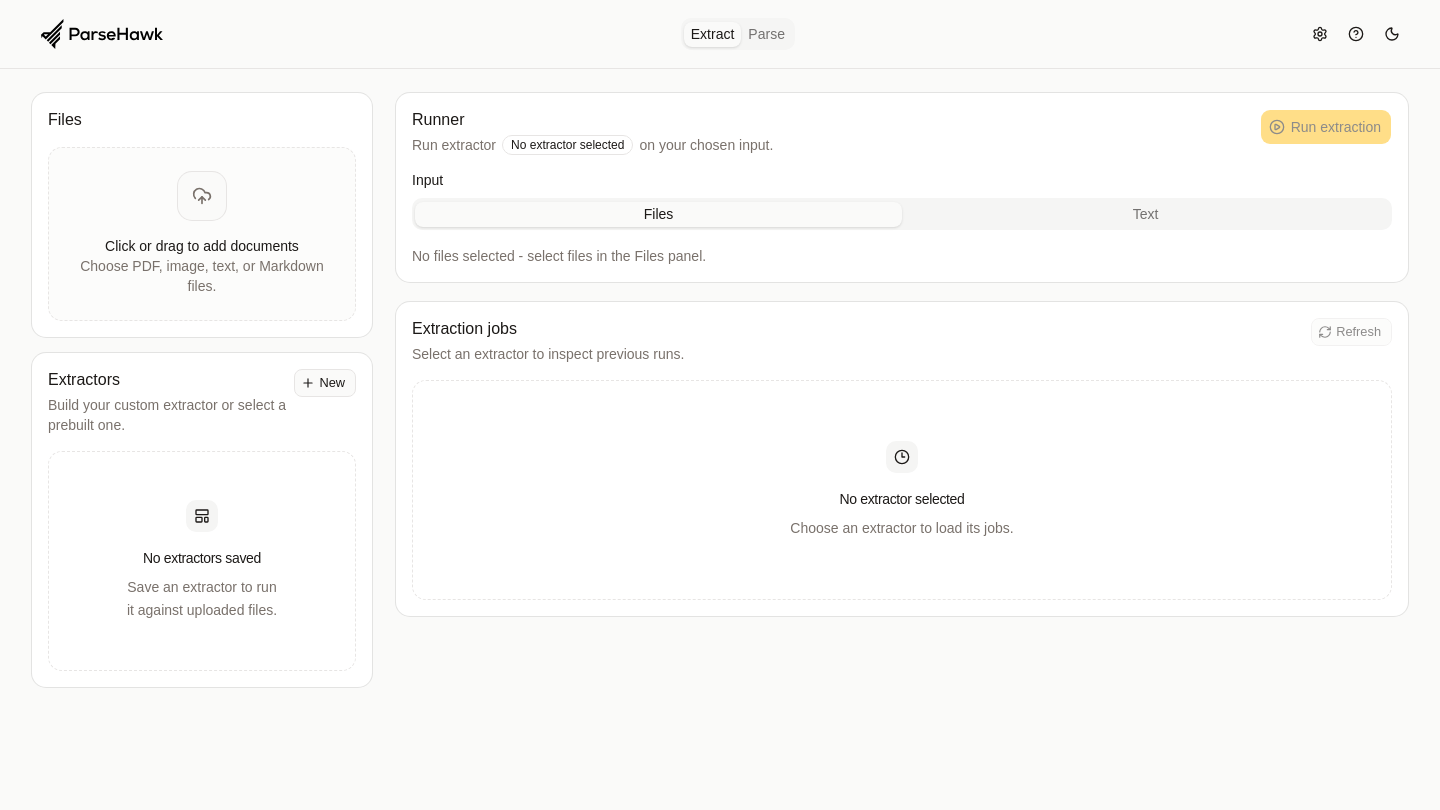
Test: App run workflow › updates the visible provider model from the saved extractor response
The image size is (1440, 810).
Click the button "New" at (325, 383), box top-left (294, 369), bottom-right (356, 397)
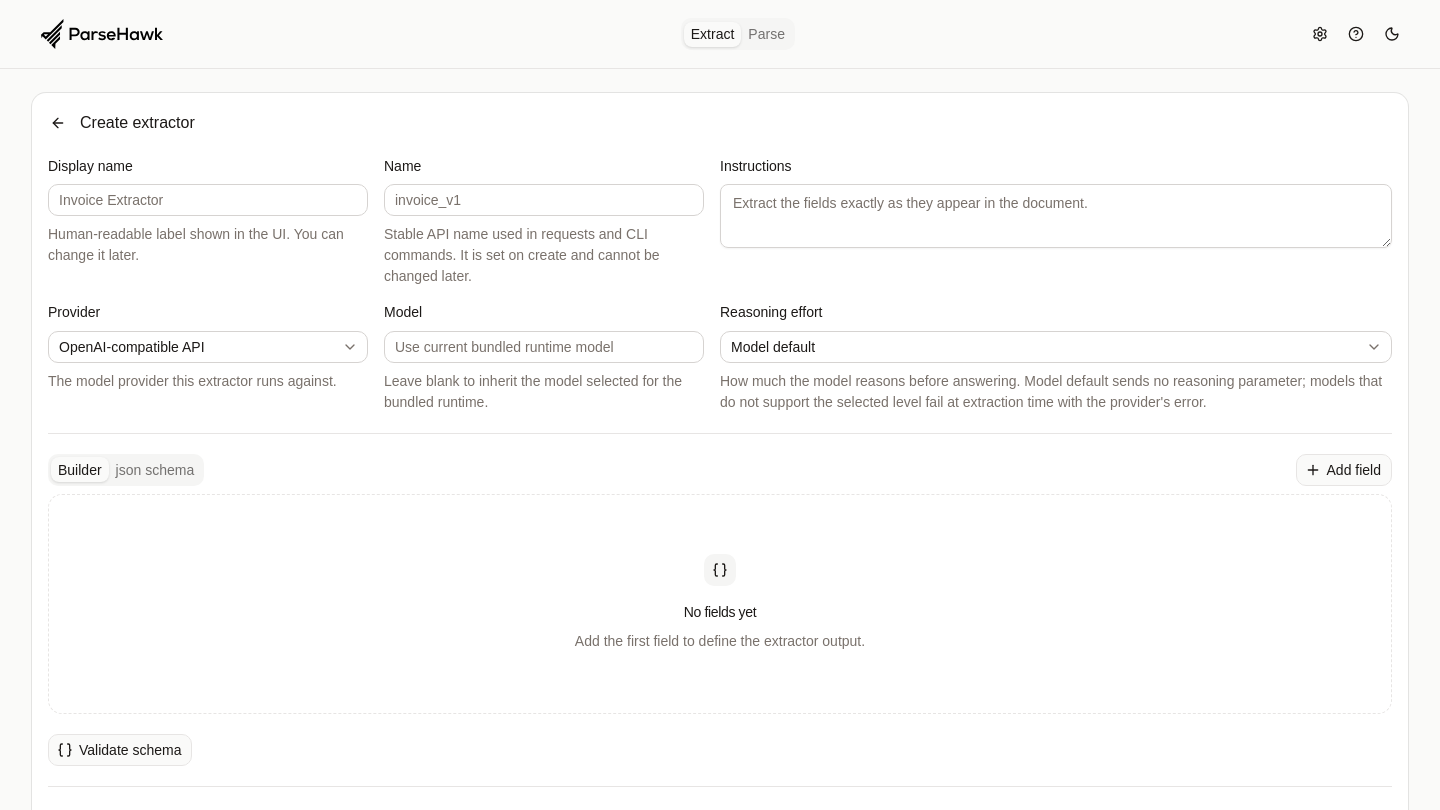
Type "Invoice" into the field labelled "Display name" at (208, 200), box top-left (48, 184), bottom-right (368, 216)
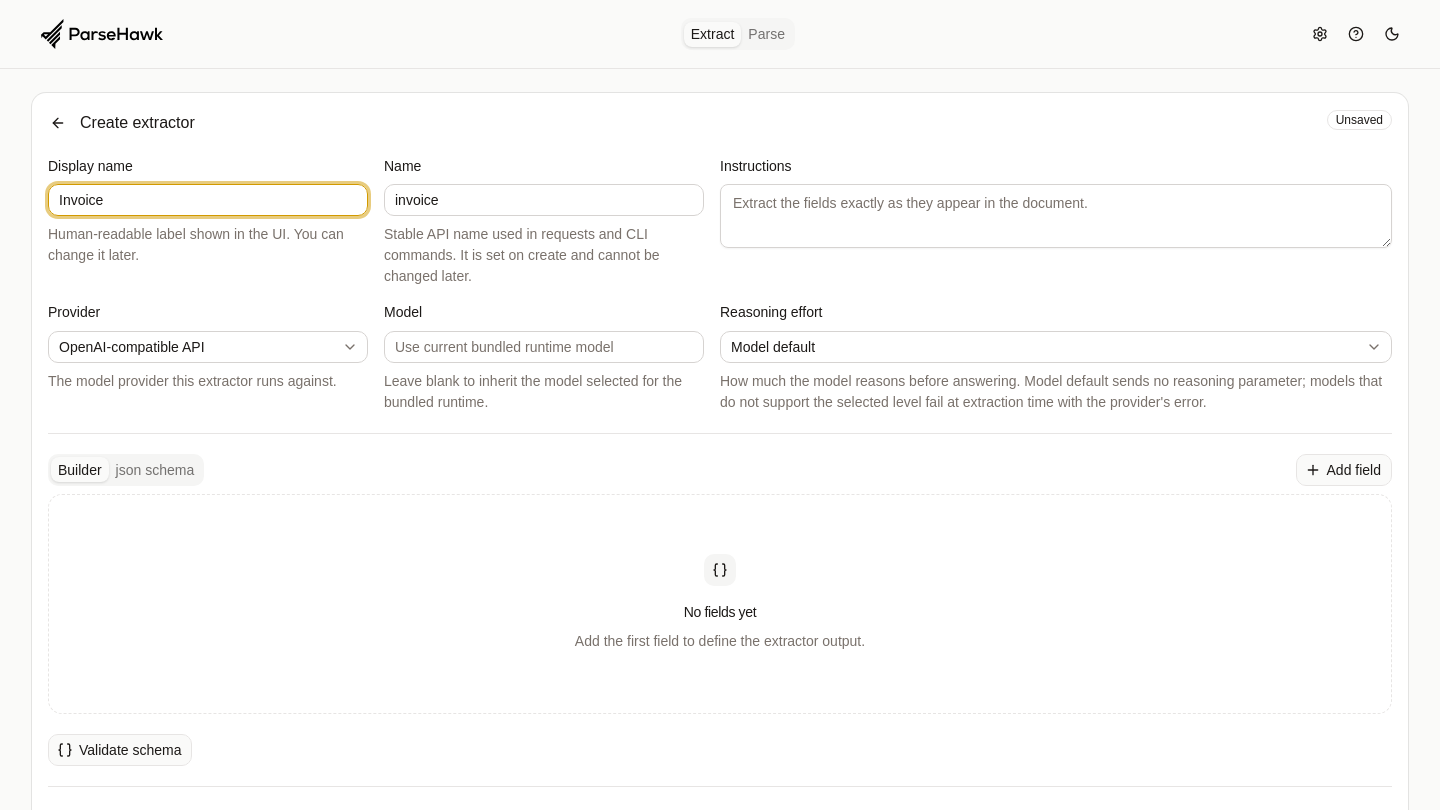
Type "Extract invoice fields." into the text box labelled "Instructions" at (1056, 216), box top-left (720, 184), bottom-right (1392, 248)
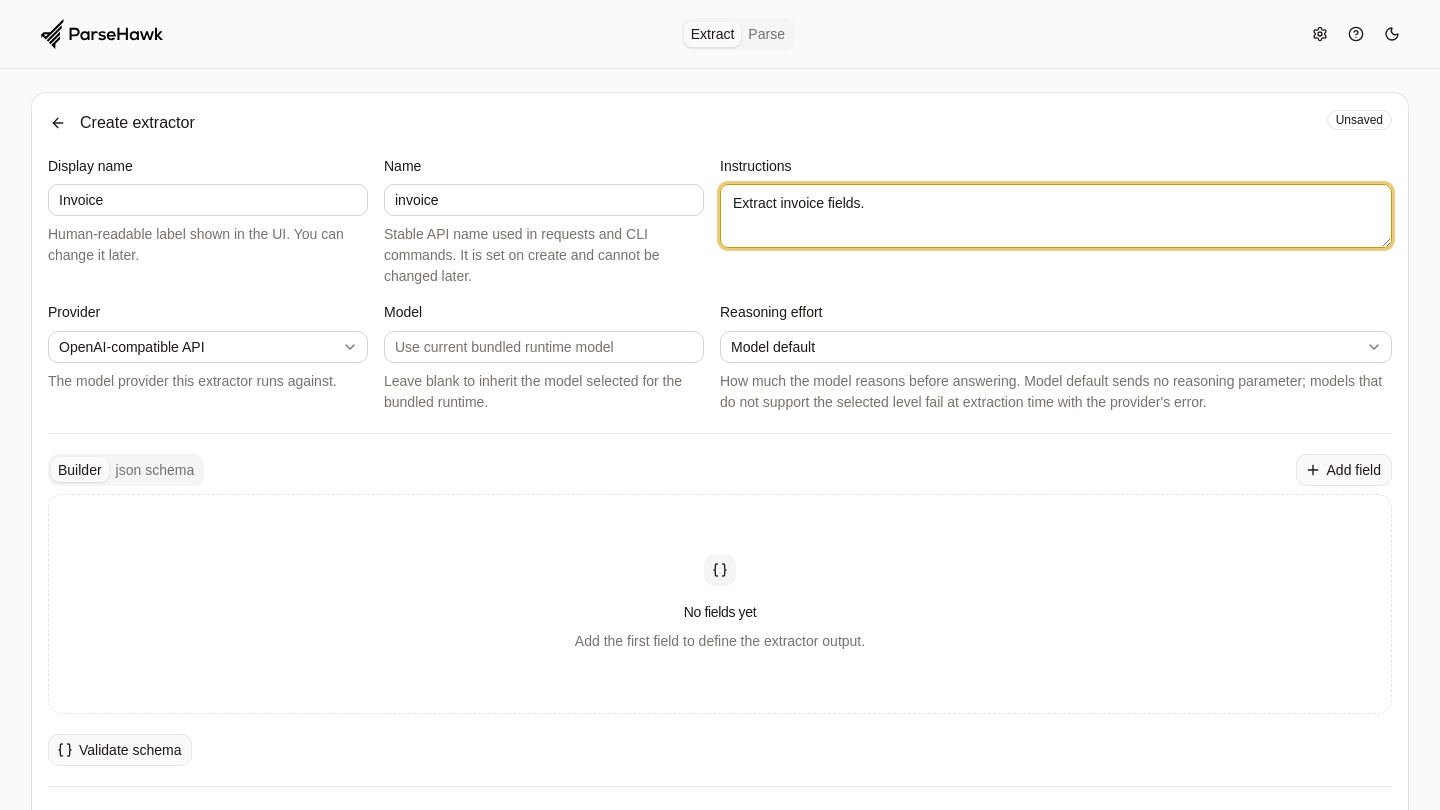
Select "OpenAI" in the dropdown labelled "Provider" at (208, 346), box top-left (48, 330), bottom-right (368, 362)
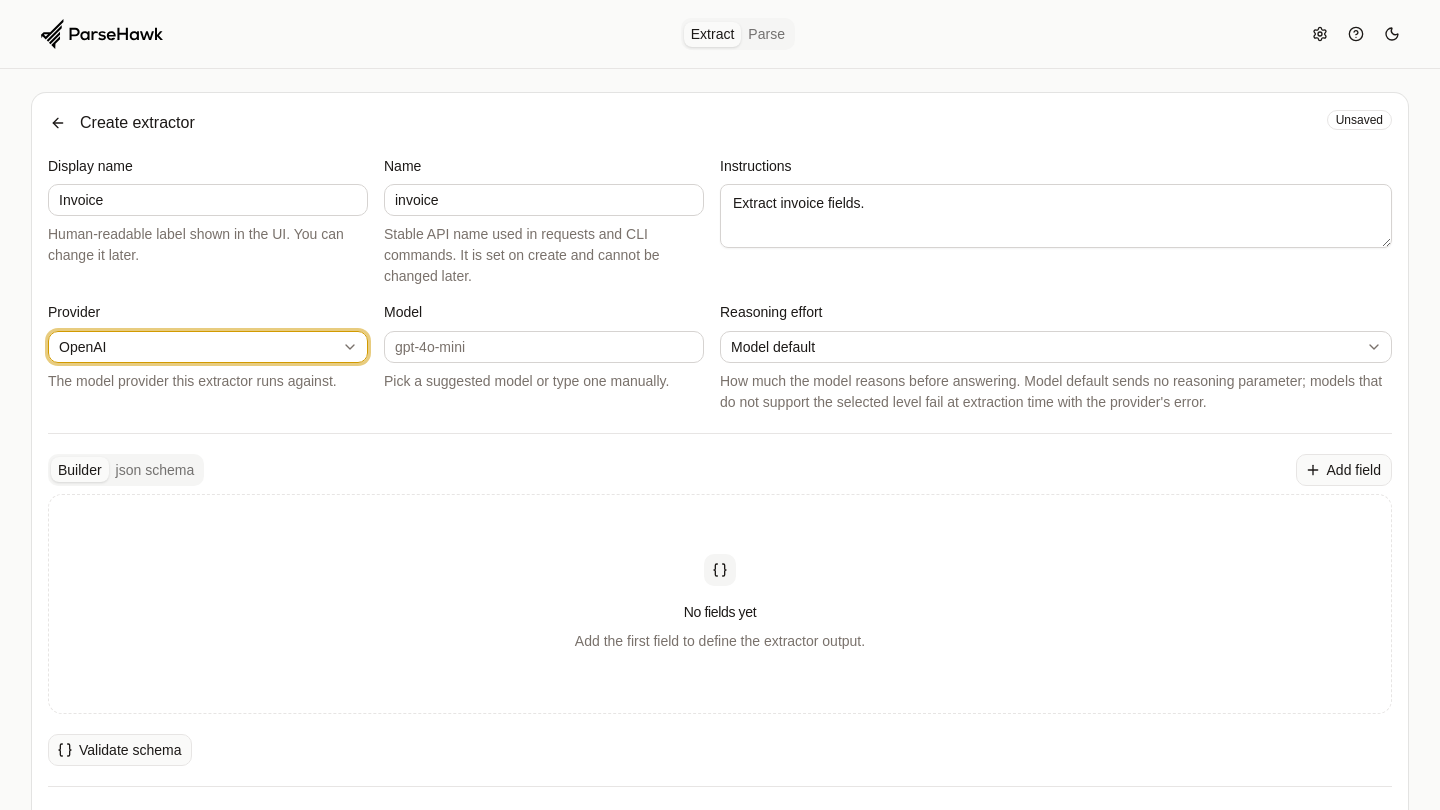
Type "draft-model" into the field labelled "Model" at (544, 346), box top-left (384, 330), bottom-right (704, 362)
(page scrolled)
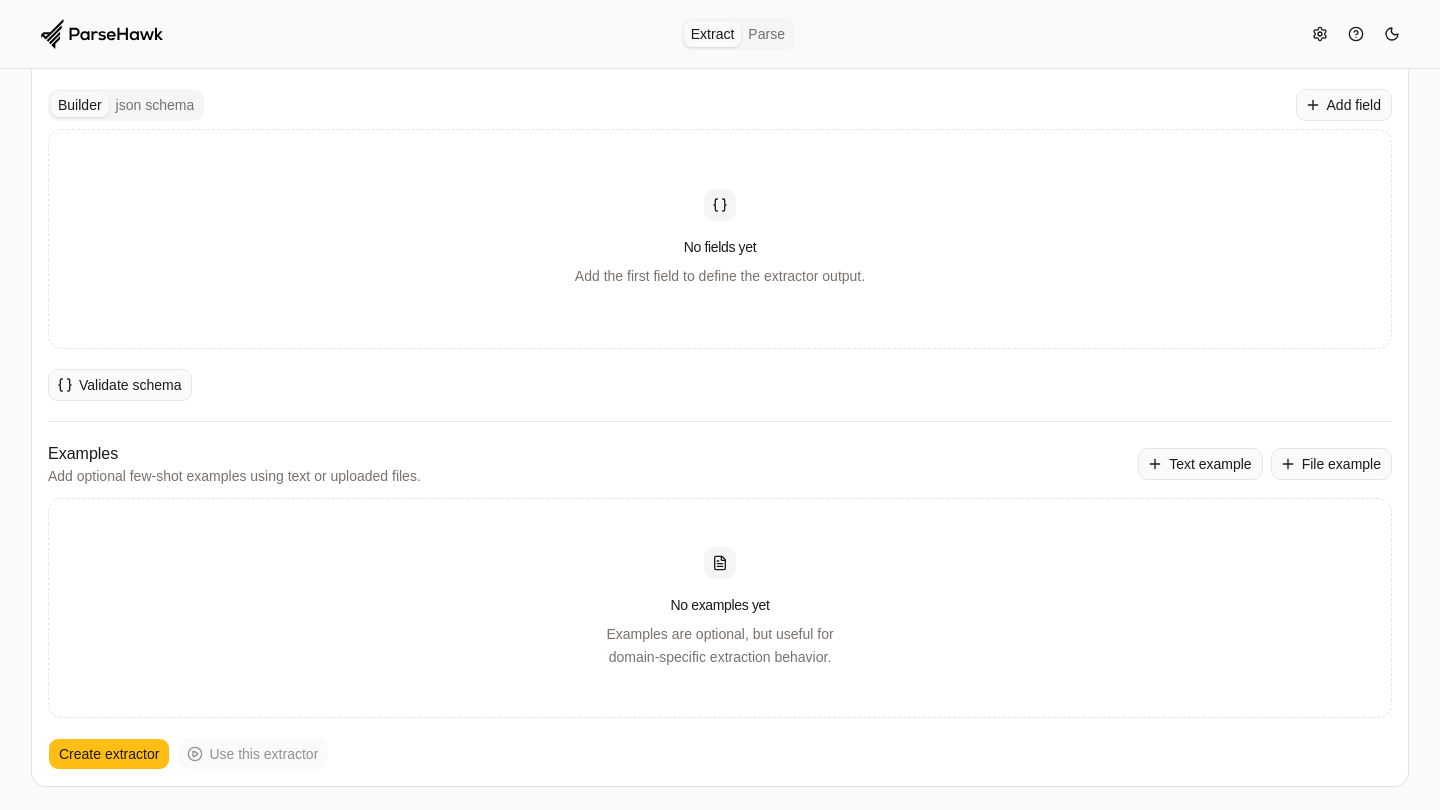
Click the button "Create extractor" at (109, 754), box top-left (48, 738), bottom-right (170, 770)
(page scrolled)
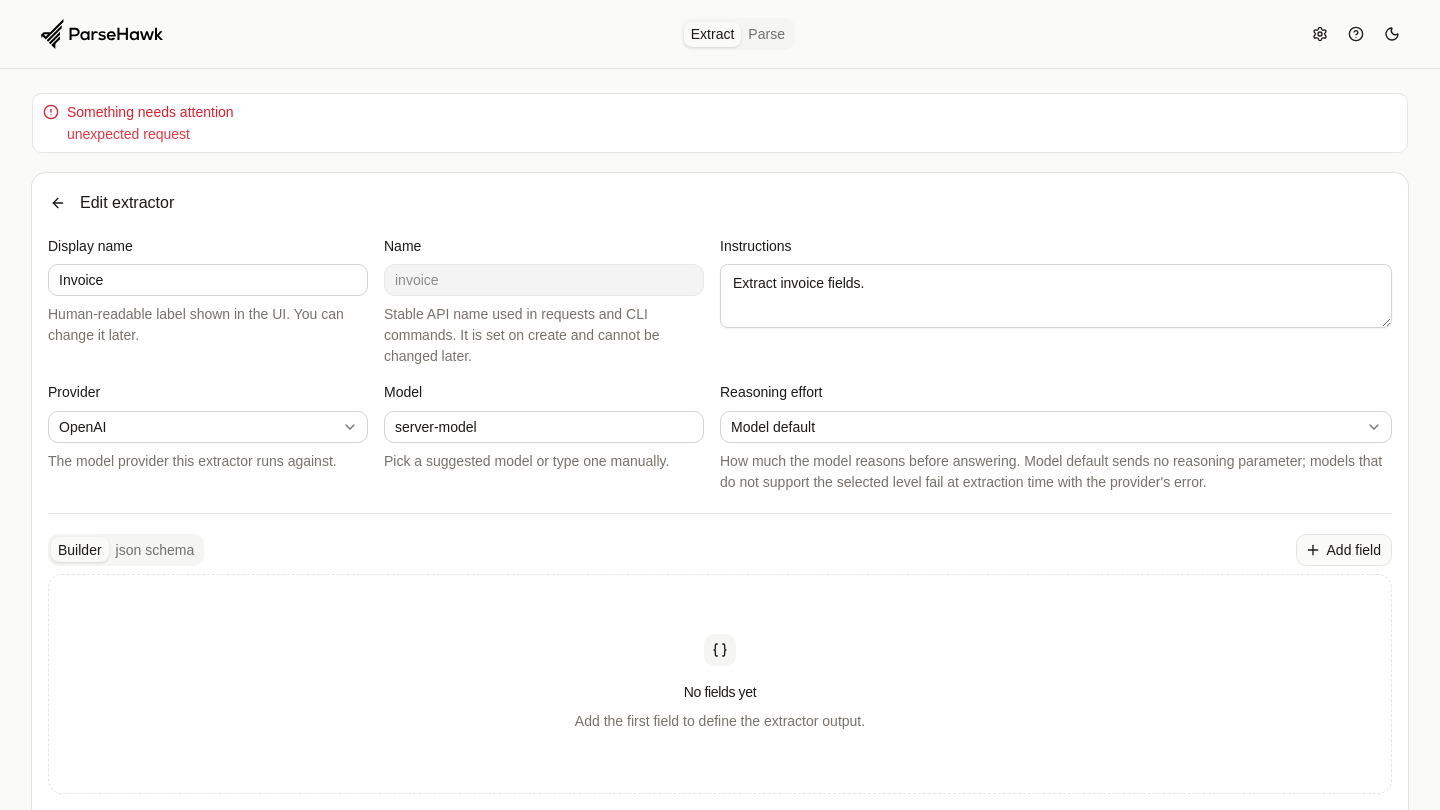
Check: the field labelled "Model" holds "server-model", box top-left (384, 410), bottom-right (704, 442)
